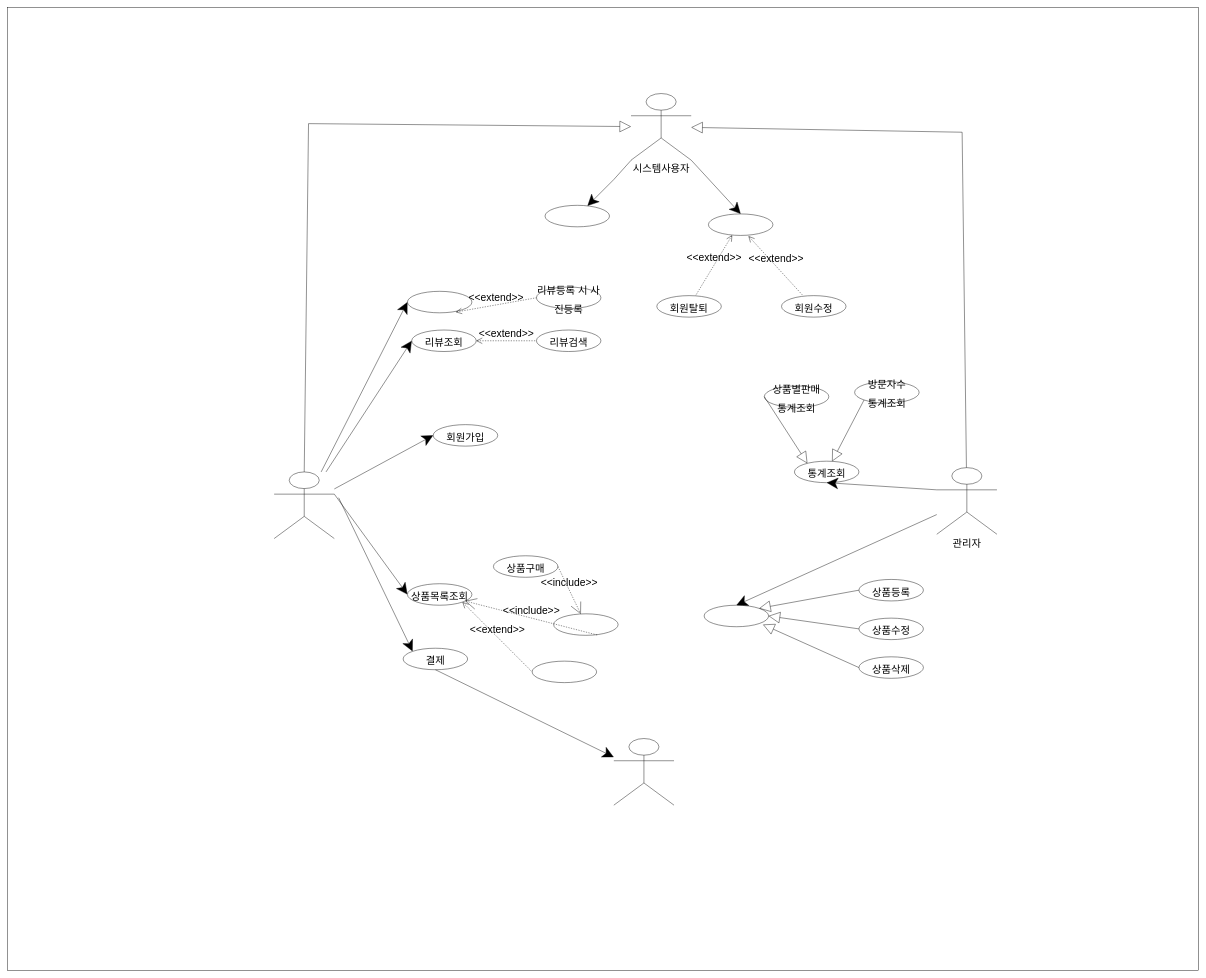
Some shapes in this 1206 by 978 pixel diagram are drawn without their labels. Here are the shapes that lost their labels. From the top down, the centre of each, then its label:
the point at 577,216: 로그인
the point at 740,224: 회원정보조회
the point at 439,302: 리뷰등록
the point at 304,505: 고객
the point at 585,624: 상품상세조회
the point at 736,616: 상품관리
the point at 564,672: 상품검색
the point at 643,771: SMS시스템
